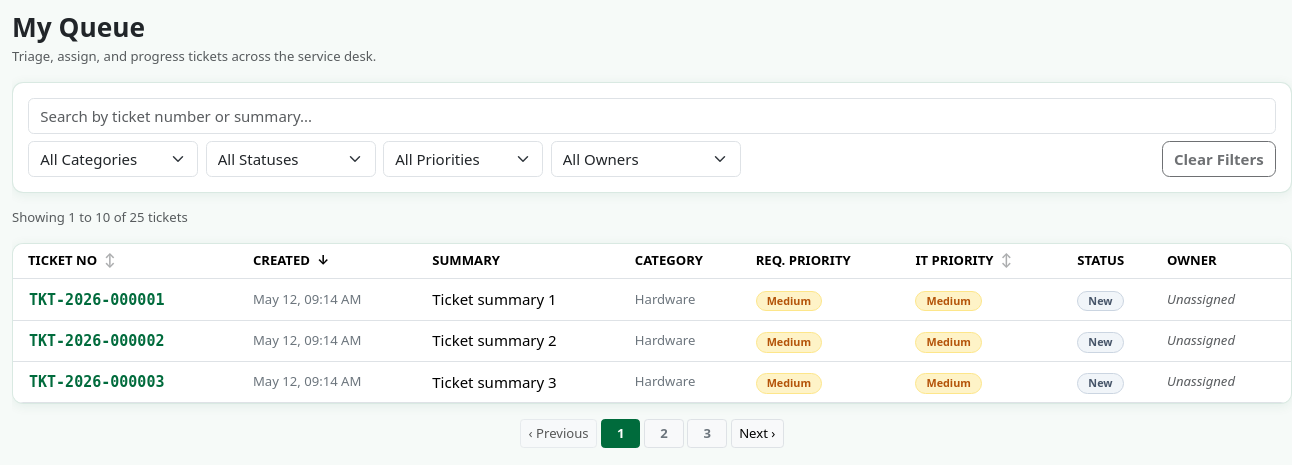
Test: StaffTicketQueue Screen (/staff/queue) › clears every filter and restores the default query
Expected: the element with test id "queue-table" is shown, [12,243,1291,404]
Type "printer" into the search field labelled "Search by ticket number or summary...". click: (652, 116)
box: [28,98,1276,134]
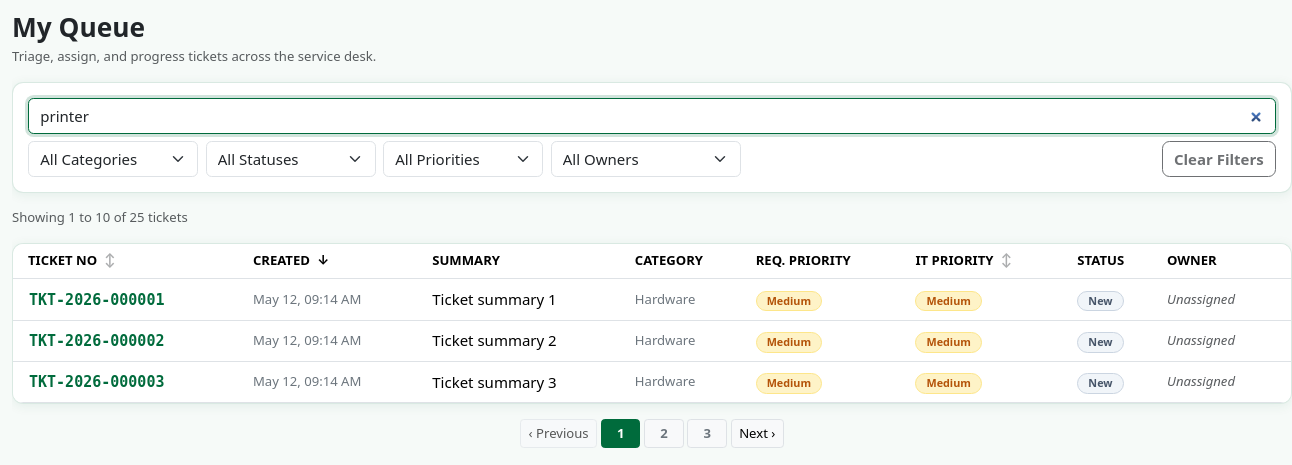
Select "Open" in the dropdown named "Filter by status". click: (290, 159)
box: [206,141,376,177]
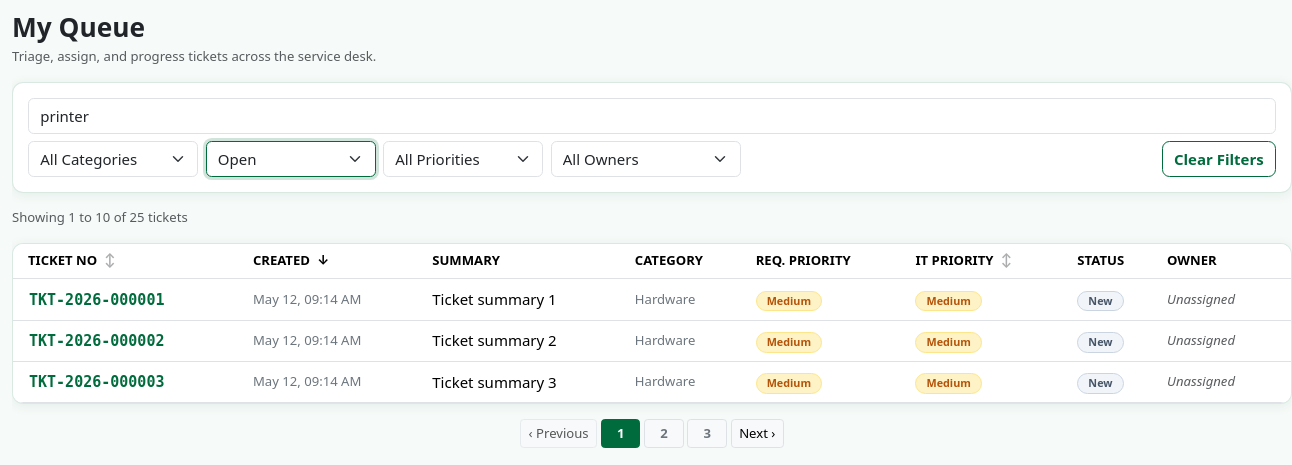
Select "Assigned to Me" in the dropdown named "Filter by owner". click: (646, 159)
box: [550,141,740,177]
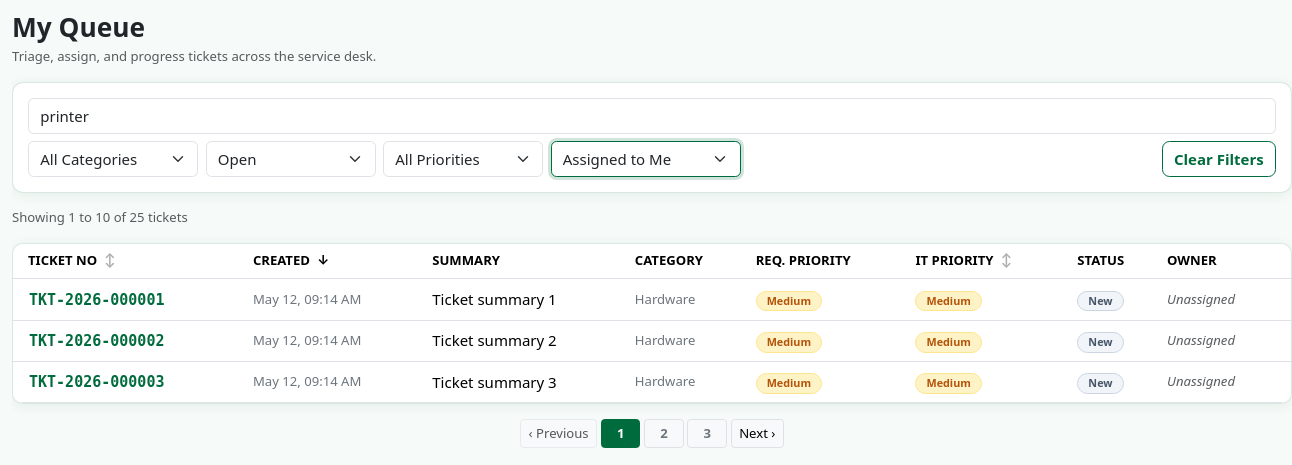
Click the button "Clear Filters". click: (1219, 159)
box: [1162,141,1276,177]
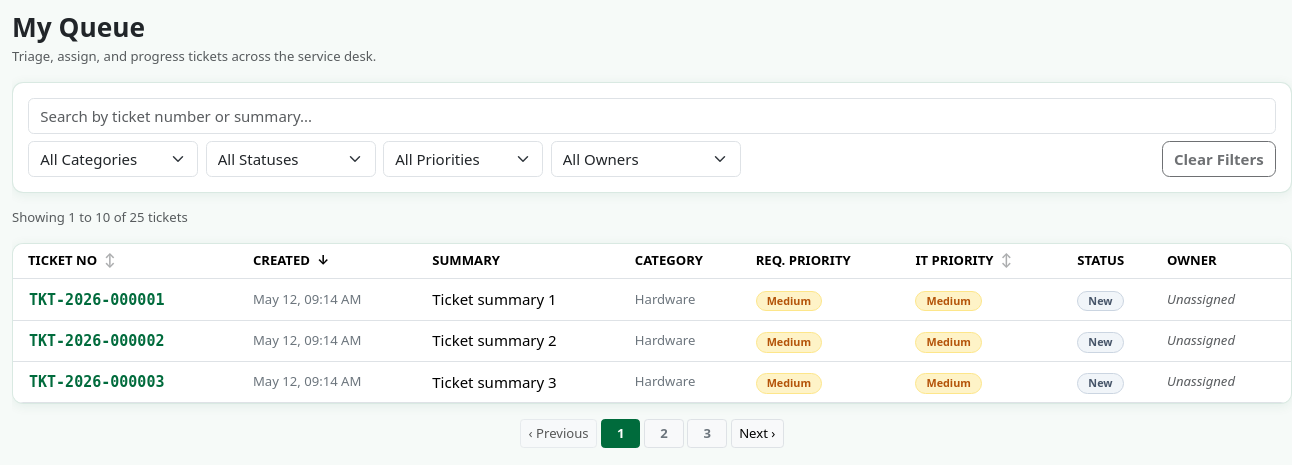
Expected: the search field labelled "Search by ticket number or summary..." is empty, [28,98,1276,134]
Expected: the button "Clear Filters" is disabled, [1162,141,1276,177]
